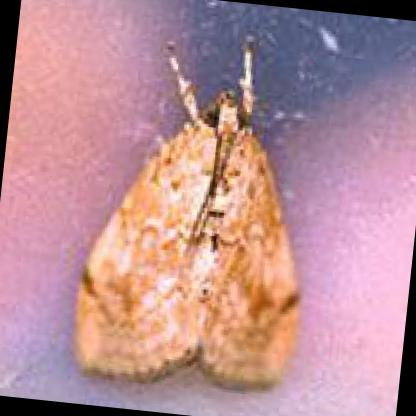Leaf Webber: (69, 31, 300, 397)
